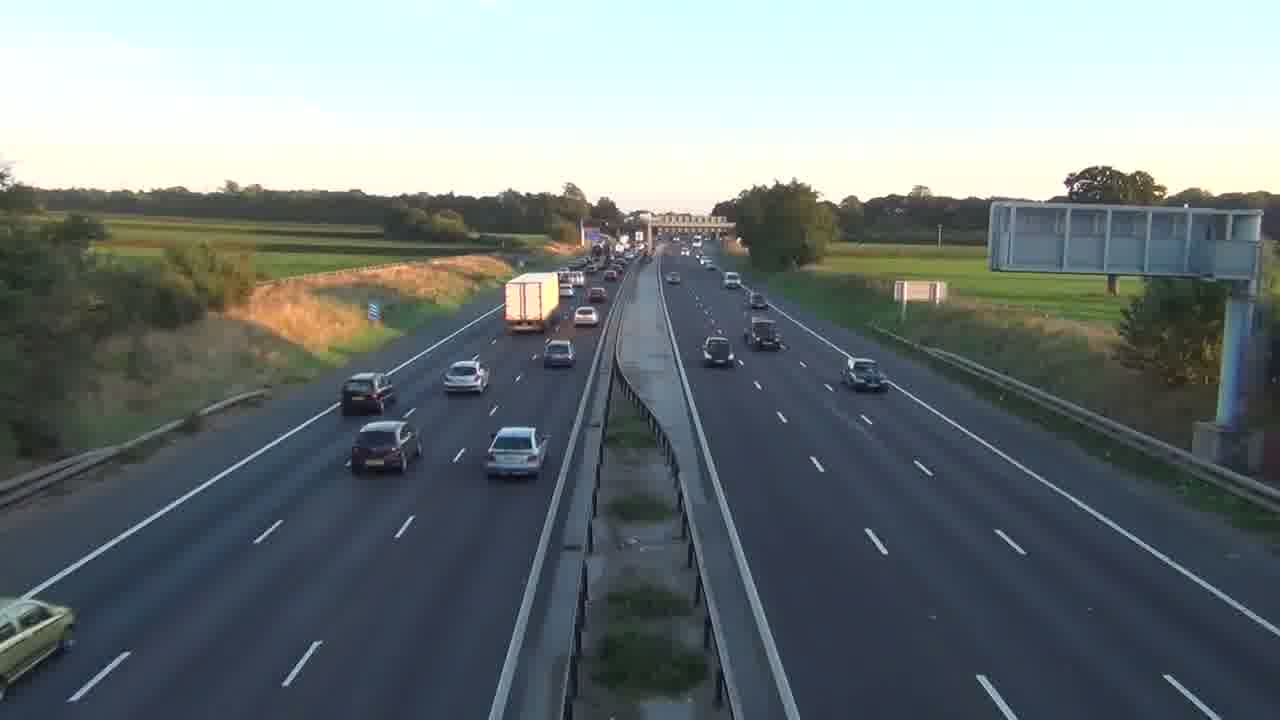car: (0, 594, 77, 695), (348, 418, 423, 473), (485, 425, 550, 480), (441, 359, 489, 395), (842, 357, 885, 392), (543, 339, 576, 370), (701, 335, 734, 366), (573, 305, 598, 328)
truck: (504, 271, 560, 335)
